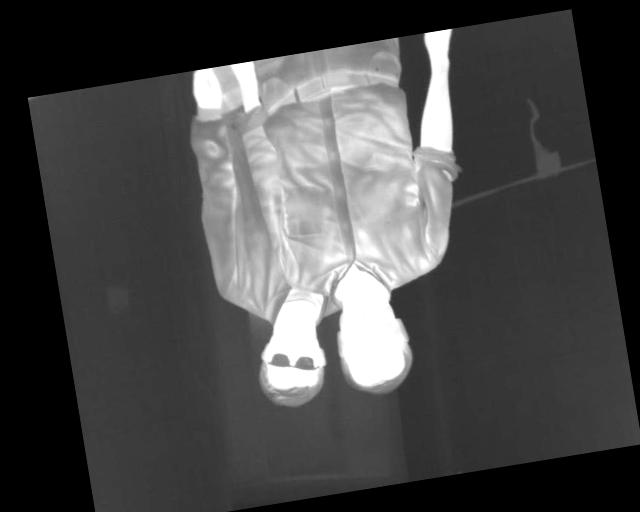face: (327, 287, 418, 402), (251, 316, 333, 413)
